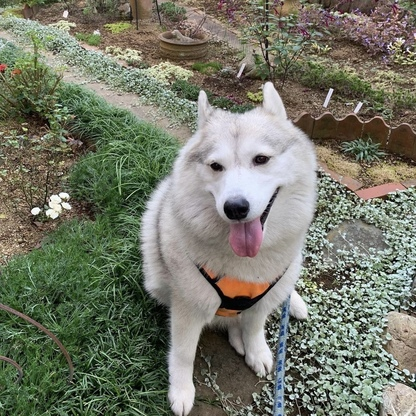husky: (134, 78, 325, 416)
